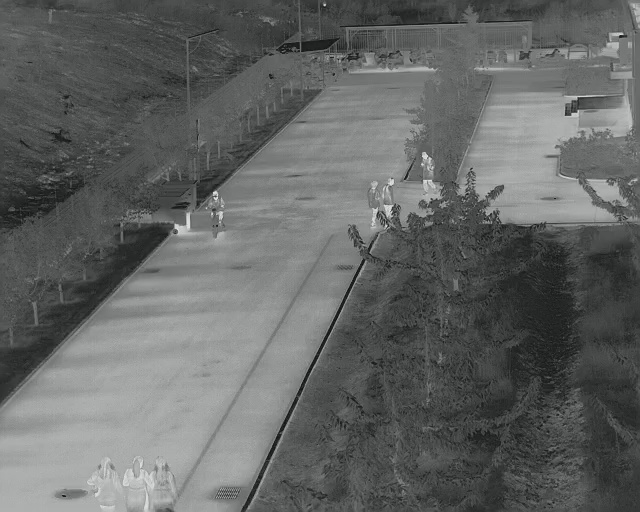NonMotorVehicle: (207, 190, 228, 239)
person: (89, 454, 121, 512), (151, 456, 177, 512), (125, 456, 150, 512), (418, 148, 436, 189), (367, 178, 380, 226), (385, 175, 397, 214)
